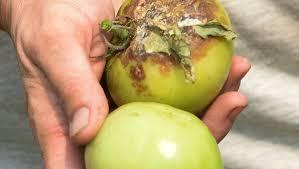tomato late blight: (99, 1, 238, 120)
